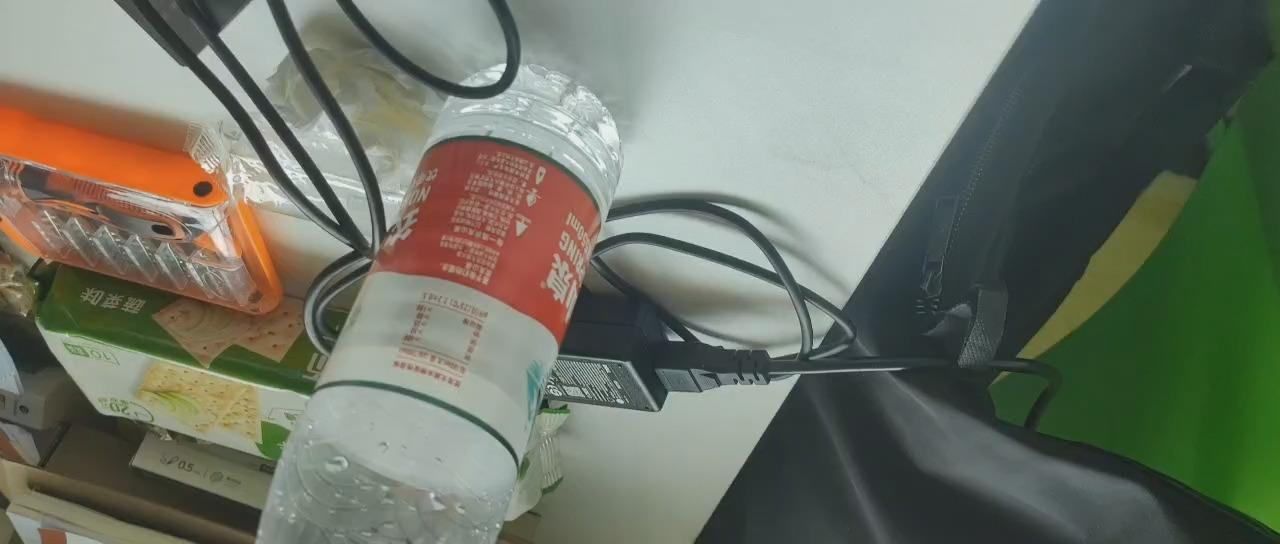BIODEGRADABLE: (244, 61, 637, 544)
